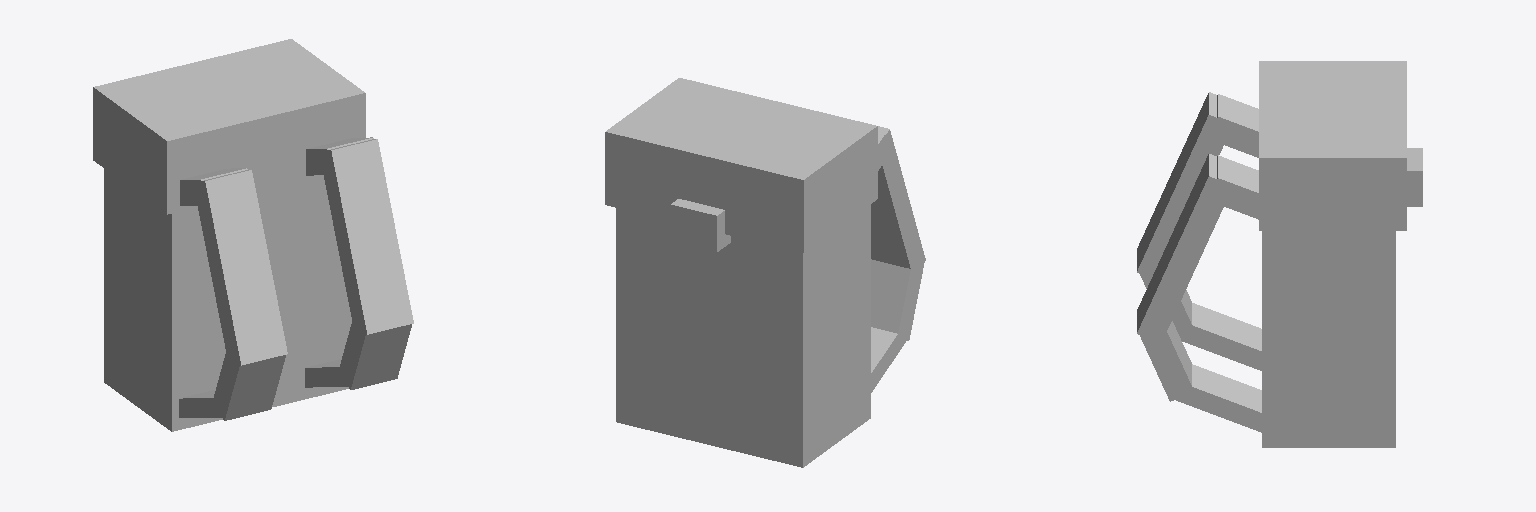
File: backpack down(1).obj
3 renders of one model, left to right at view 1: azimuth 30°, elevation 25°; view 2: azimuth 150°, elevation 25°; view 3: azimuth 270°, elevation 25°, orthographic.
Visible parts, largest first — view 1: cube; view 2: cube; view 3: cube.
Boxes of the visible parts, box(x1,y1,x2,y2) form: cube: box(93, 39, 413, 431); cube: box(605, 78, 925, 467); cube: box(1137, 61, 1422, 447).
Size of the model in its own units: 0.5312 by 0.75 by 0.665.